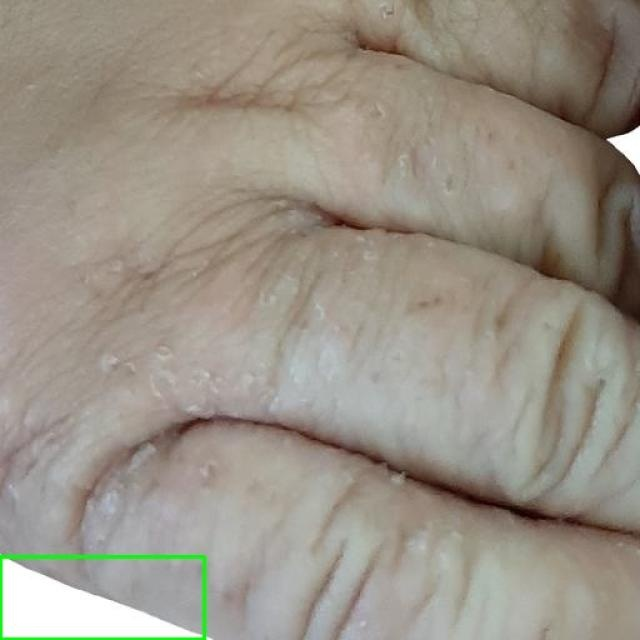Scabies: (0, 556, 205, 639)
